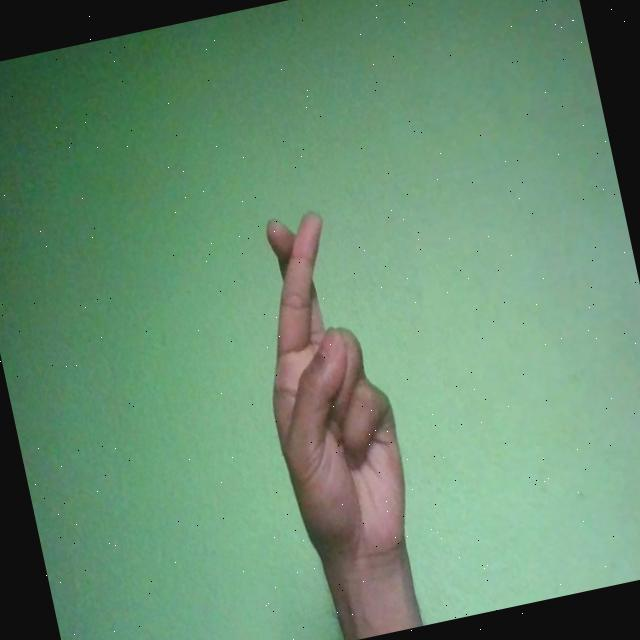Ok: (232, 203, 424, 584)
